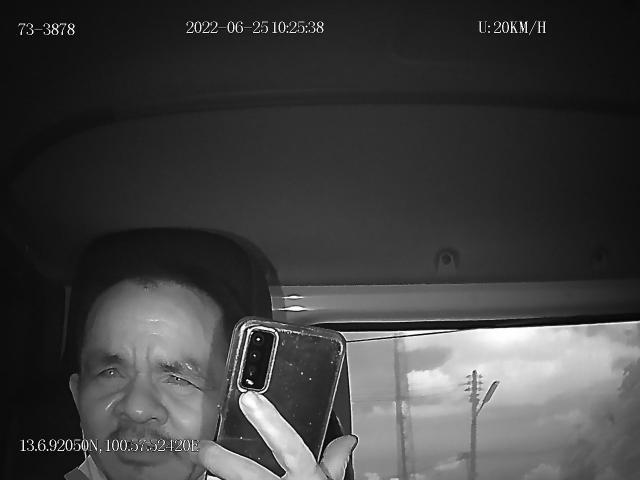PhoneUse: (206, 318, 346, 480)
SafeDriving: (155, 360, 206, 396), (86, 354, 132, 388)
